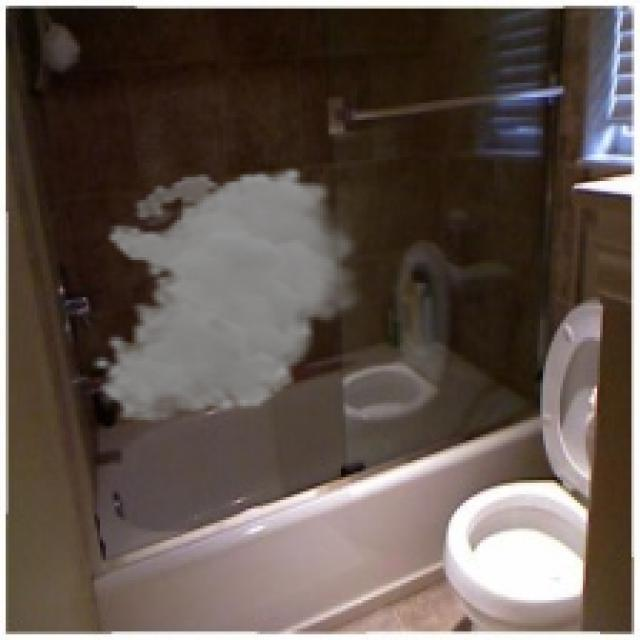Smoke: (92, 166, 368, 423)
